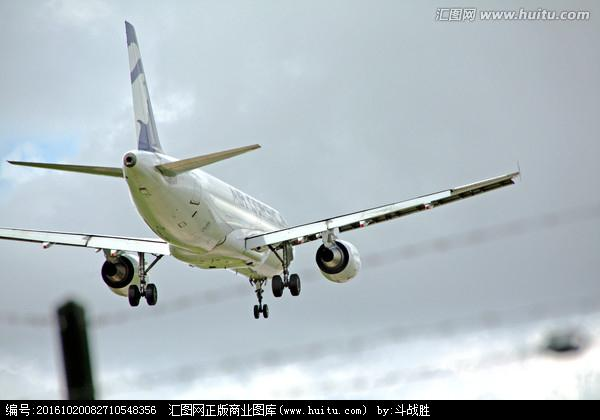airplane: (1, 19, 529, 318)
